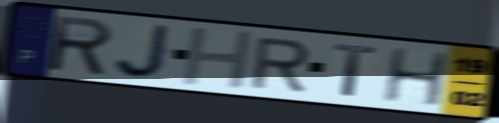H: (179, 26, 257, 90), (379, 47, 450, 109)
J: (112, 22, 175, 81)
R: (49, 14, 116, 78), (248, 36, 313, 94)
T: (331, 42, 381, 100)
